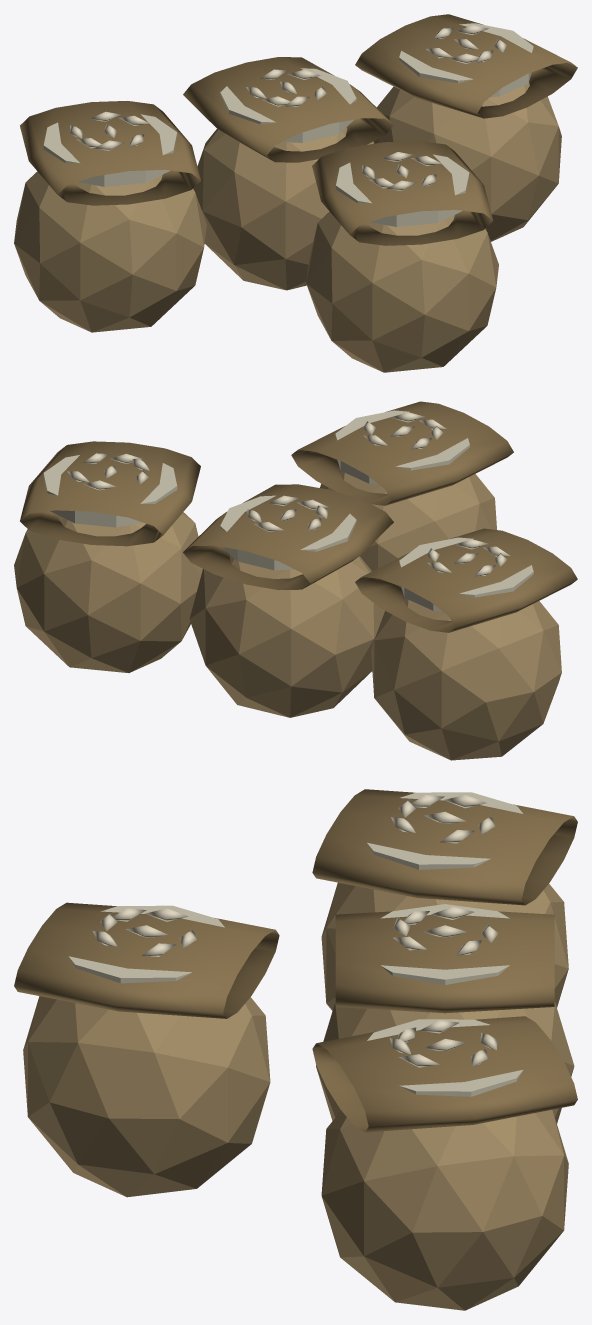
Rendered from pile-milledRice-4.gltf.
The picture shows the model from 3 angles, top to bottom: view 1: azimuth 30°, elevation 25°; view 2: azimuth 150°, elevation 25°; view 3: azimuth 270°, elevation 25°; orthographic projection. The views are drawn at different scales.
Parts seen in each view (by area): view 1: pile-milledRice-4; view 2: pile-milledRice-4; view 3: pile-milledRice-4.
Part boxes in pixels (x1,y1,x2,y2): pile-milledRice-4: [14, 14, 577, 372]; pile-milledRice-4: [14, 401, 577, 760]; pile-milledRice-4: [14, 789, 577, 1310].
Size of the model in its own units: 0.7915 by 0.2915 by 0.567.
